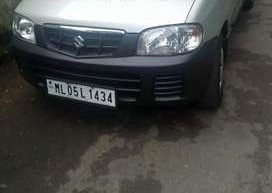ML05L1434: (46, 77, 115, 106)
